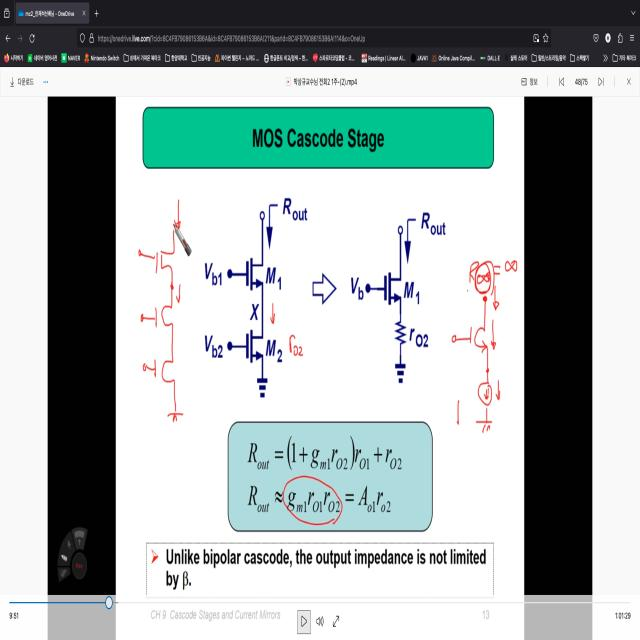panseo: (132, 184, 197, 443), (451, 245, 520, 442)
